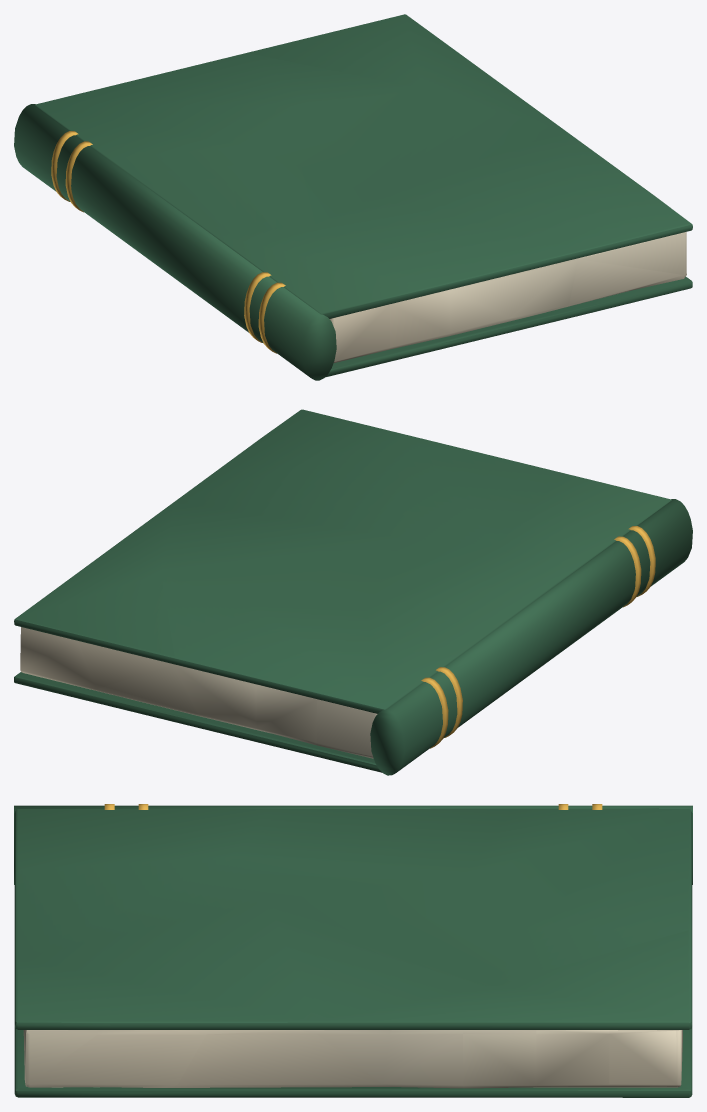
The model's file is frost_book_green_lod1.glb.
3 renders of one model, top to bottom at view 1: azimuth 30°, elevation 25°; view 2: azimuth 150°, elevation 25°; view 3: azimuth 270°, elevation 25°, orthographic. The views are drawn at different scales.
Visible parts, largest first — view 1: frost_book_green.001; view 2: frost_book_green.001; view 3: frost_book_green.001.
Part boxes in pixels (x1,y1,x2,y2): frost_book_green.001: [14, 14, 692, 380]; frost_book_green.001: [14, 409, 692, 775]; frost_book_green.001: [14, 804, 692, 1097].
Size of the model in its own units: 18.95 by 3.12 by 24.05.
